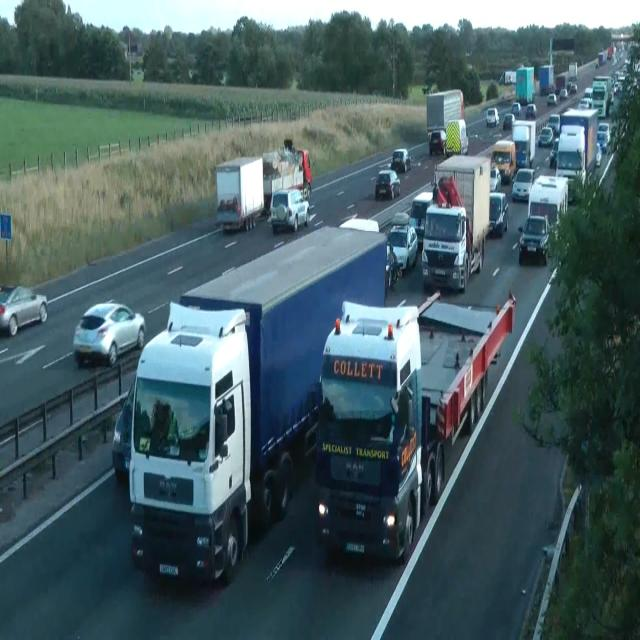bus: (72, 300, 146, 368), (0, 283, 48, 337), (111, 389, 132, 481), (518, 214, 550, 265), (488, 191, 508, 237), (511, 167, 535, 201), (374, 169, 400, 200), (385, 242, 399, 293), (391, 148, 411, 174), (428, 129, 446, 155), (538, 125, 554, 147), (489, 165, 501, 192), (546, 113, 560, 136), (549, 138, 559, 168), (596, 129, 608, 154), (515, 149, 529, 169), (486, 107, 499, 127), (598, 122, 610, 143), (503, 113, 515, 130), (525, 103, 537, 119), (595, 142, 602, 166), (578, 97, 592, 109), (546, 92, 556, 106), (511, 102, 521, 116), (567, 82, 577, 94), (559, 88, 567, 100), (584, 87, 592, 98)
car: (314, 288, 516, 564)
jeep: (386, 212, 418, 274), (269, 186, 309, 233)
minibus: (126, 223, 389, 587), (421, 154, 491, 292), (214, 139, 312, 233), (555, 107, 599, 200), (214, 155, 264, 232), (262, 140, 312, 212), (426, 88, 465, 155), (528, 174, 568, 227), (476, 140, 516, 184), (409, 190, 433, 247), (511, 119, 535, 169), (444, 119, 468, 158), (592, 76, 614, 116), (515, 66, 535, 105), (539, 64, 555, 96), (568, 62, 578, 80)
